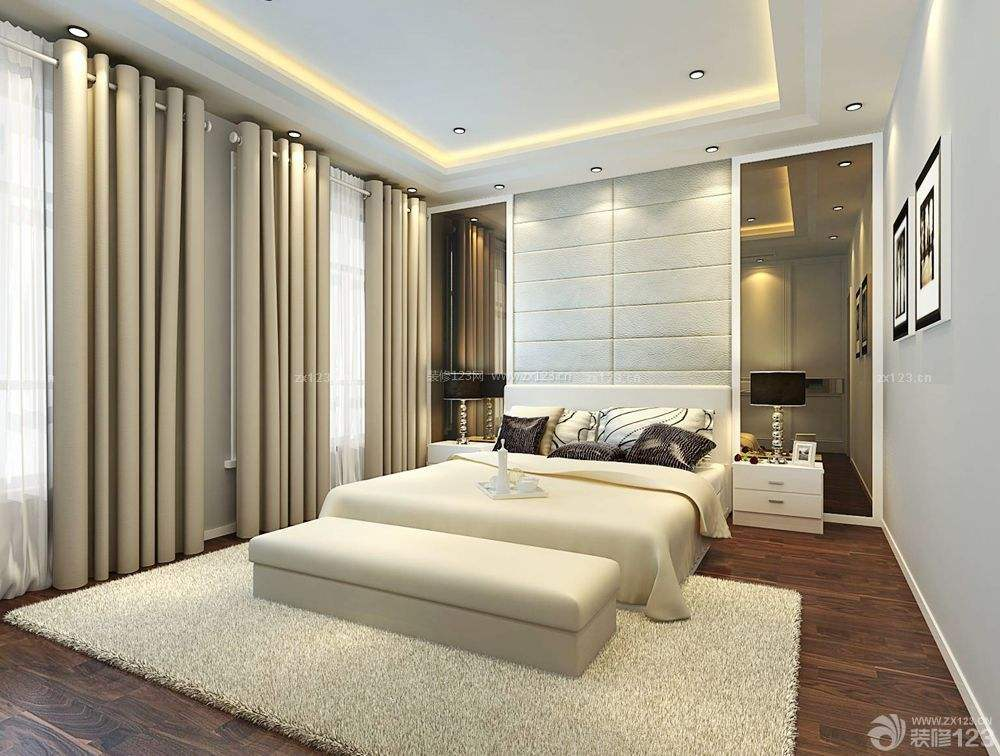床: (264, 452, 723, 680)
枕头: (508, 397, 712, 470)
灯: (751, 371, 816, 462), (439, 363, 502, 448), (841, 99, 869, 118), (686, 67, 710, 84), (452, 121, 474, 139), (585, 162, 609, 178), (702, 142, 726, 158), (836, 159, 860, 174), (485, 181, 508, 196)
